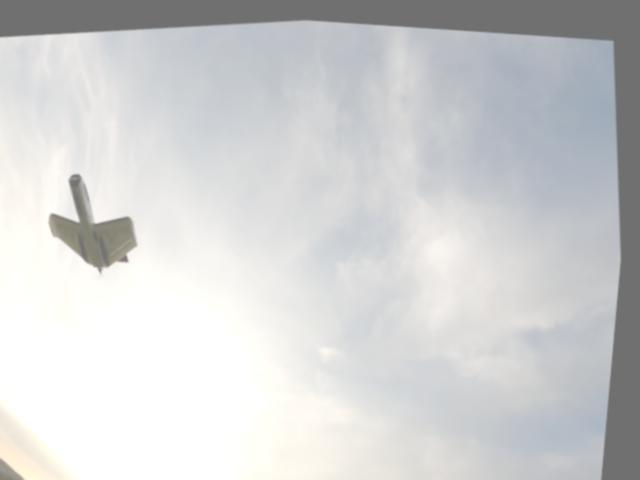plane: (44, 166, 150, 280)
